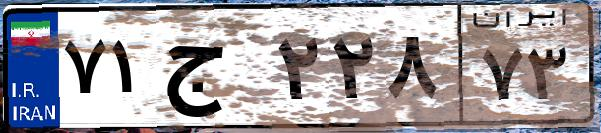1: (110, 28, 158, 98)
2: (270, 28, 330, 110), (330, 28, 385, 110)
3: (525, 38, 570, 115)
7: (57, 26, 110, 100), (475, 38, 525, 113)
8: (385, 28, 445, 110)
ج: (158, 20, 270, 120)
